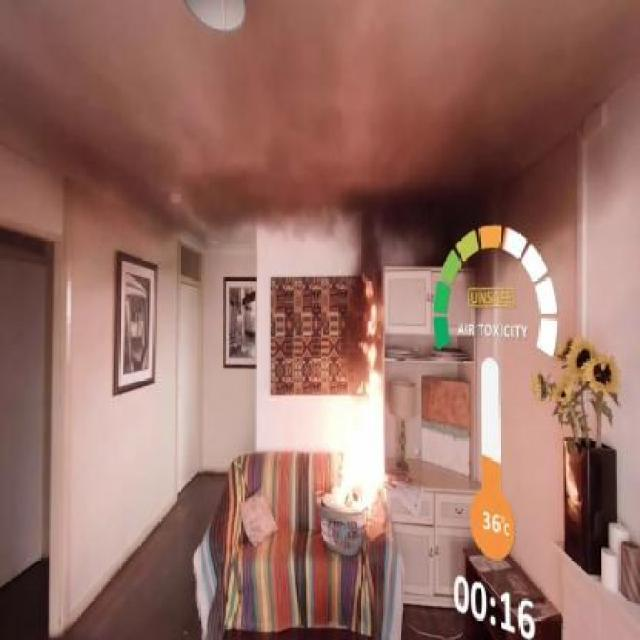fire: (296, 302, 395, 550)
